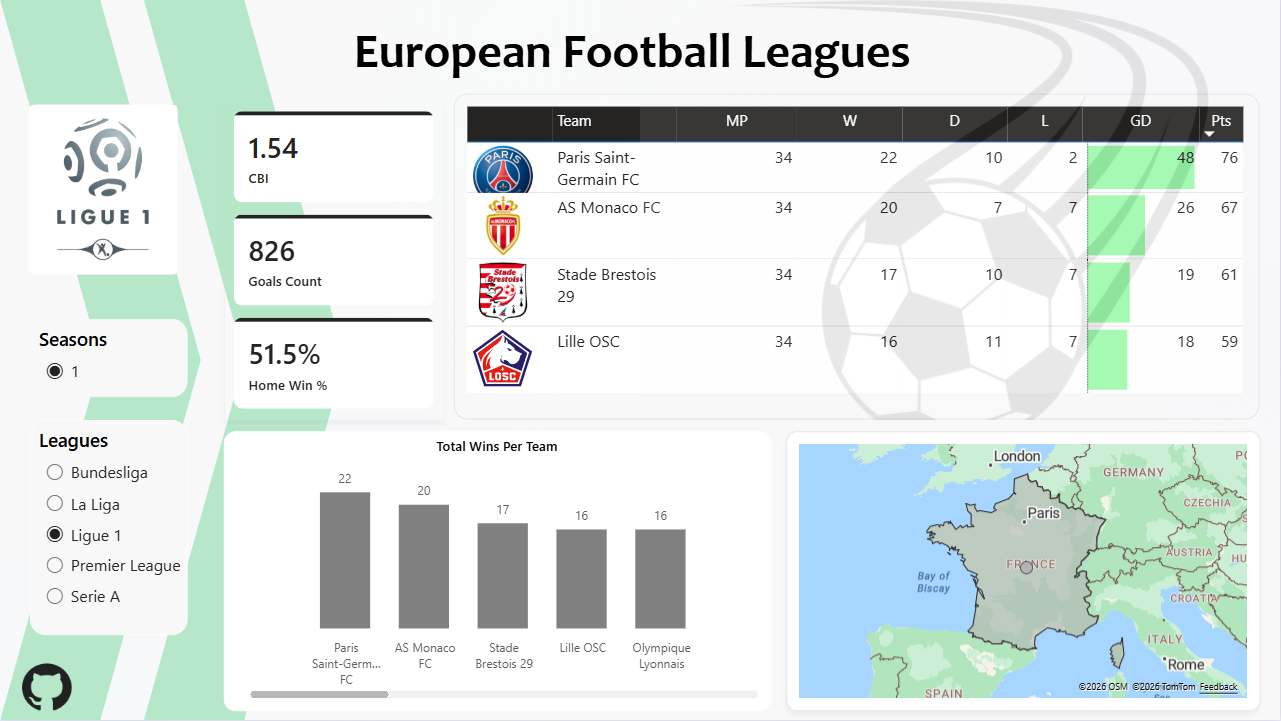

This screenshot's page, from the dashboard's own definition file:
{"tool":"powerbi","page":{"name":"Leagues","canvas":[1280,720],"ordinal":0},"visuals":[{"type":"shape","box":[144.3,0,201.4,720],"z":0},{"type":"clusteredColumnChart","title":"Total Wins Per Team","fields":{"Category":["DWH Dim_Team.Name"],"Series":["DWH Dim_League.Name"],"Y":["Sum(DWH Fact_Team_Monthly_Stat.Total_wins_count)"]},"box":[224.3,431.4,547.1,280],"z":1000},{"type":"shape","box":[0,0,201,720.2],"z":2000},{"type":"azureMap","fields":{"Category":["DWH Dim_League.Country"]},"box":[785.7,431.4,474.3,280],"z":3000},{"type":"slicer","title":"Leagues","fields":{"Values":["DWH Dim_League.Name"]},"box":[30,420,157.5,215],"z":4000},{"type":"cardVisual","fields":{"Data":["Min(DWH Dim_League.leagues.icon_url)"]},"box":[14.3,94.3,174.3,191.4],"z":5000},{"type":"tableEx","fields":{"Values":["DWH Dim_Team.teams.cresturl","DWH Dim_Team.Name","Sum(DWH Fact_Team_Monthly_Stat.Total_matches_played)","Sum(DWH Fact_Team_Monthly_Stat.Total_wins_count)","Sum(DWH Fact_Team_Monthly_Stat.Draw_count)","Sum(DWH Fact_Team_Monthly_Stat.Loss_count)","Sum(DWH Fact_Team_Monthly_Stat.Goal_difference)","Sum(DWH Fact_Team_Monthly_Stat.Total_points)"]},"box":[454.3,94.3,805.7,325.7],"z":6000},{"type":"image","box":[640,0,640,420],"z":6500},{"type":"cardVisual","fields":{"Data":["DWH Fact_Team_Monthly_Stat.CBI","Sum(DWH Fact_Team_Monthly_Stat.Goals_count)","DWH Fact_Scoring_Efficiency.Home Win % (Final Fix)"]},"box":[224.4,102.5,218.4,317.3],"z":7000},{"type":"textbox","box":[348.6,15.7,582.9,78.6],"z":8000},{"type":"image","box":[21.2,662.2,51.4,49.1],"z":9000},{"type":"slicer","title":"Seasons","fields":{"Values":["DWH Fact_Scoring_Efficiency.Season_key"]},"box":[30,318.8,157.5,78.8],"z":10000}]}

Visuals, with their boxes in screenshot pixels (x1, y1, x2, y2), scaled from the page's 1280x720 canvas onto the 1281x721 screenshot:
shape: [144,0,346,720]
"Total Wins Per Team" clusteredColumnChart: [224,432,772,712]
shape: [0,0,201,720]
azureMap - DWH Dim_League.Country: [786,432,1261,712]
"Leagues" slicer: [30,421,188,636]
cardVisual - Min(DWH Dim_League.leagues.icon_url): [14,94,189,286]
tableEx - DWH Dim_Team.teams.cresturl x DWH Dim_Team.Name: [455,94,1261,421]
image: [640,0,1280,421]
cardVisual - DWH Fact_Team_Monthly_Stat.CBI x Sum(DWH Fact_Team_Monthly_Stat.Goals_count): [225,103,443,420]
textbox: [349,16,932,94]
image: [21,663,73,712]
"Seasons" slicer: [30,319,188,398]
